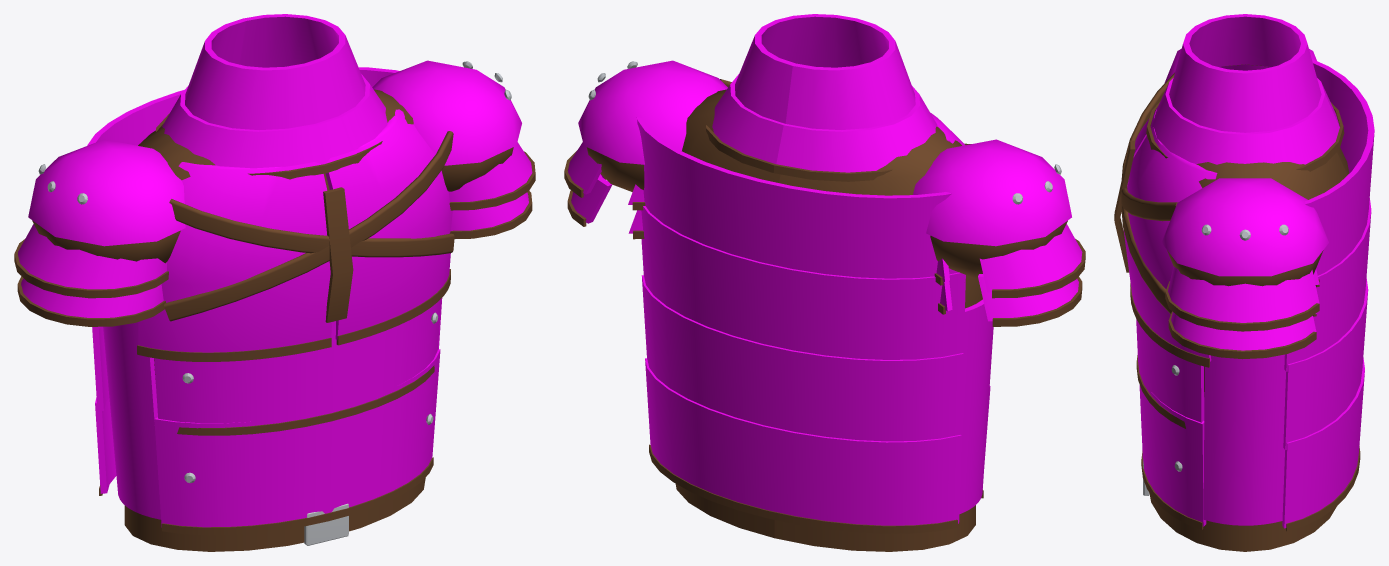
The model's file is objet_armure1_plastron.glb.
The picture shows the model from 3 angles, left to right: view 1: azimuth 30°, elevation 25°; view 2: azimuth 150°, elevation 25°; view 3: azimuth 270°, elevation 25°; orthographic projection. The views are drawn at different scales.
Parts seen in each view (by area): view 1: poitrine__plastron_teinte.010, ventre__plastron_teinte.010, poitrine__plastron_sac_cuir.002, ventre__plastron_sac_cuir.004, ventre__plastron_boucle.004; view 2: poitrine__plastron_teinte.010, ventre__plastron_teinte.010, poitrine__plastron_sac_cuir.002, ventre__plastron_sac_cuir.004; view 3: poitrine__plastron_teinte.010, ventre__plastron_teinte.010, poitrine__plastron_sac_cuir.002, ventre__plastron_sac_cuir.004.
Boxes of the visible parts, bbox=[...] form: poitrine__plastron_teinte.010: bbox=[18, 14, 532, 352]; ventre__plastron_teinte.010: bbox=[92, 298, 442, 527]; poitrine__plastron_sac_cuir.002: bbox=[14, 89, 535, 361]; ventre__plastron_sac_cuir.004: bbox=[99, 359, 434, 551]; ventre__plastron_boucle.004: bbox=[304, 503, 348, 545]; poitrine__plastron_teinte.010: bbox=[568, 14, 1082, 359]; ventre__plastron_teinte.010: bbox=[641, 275, 993, 525]; poitrine__plastron_sac_cuir.002: bbox=[564, 79, 1085, 326]; ventre__plastron_sac_cuir.004: bbox=[649, 444, 983, 551]; poitrine__plastron_teinte.010: bbox=[1123, 14, 1374, 371]; ventre__plastron_teinte.010: bbox=[1136, 278, 1368, 528]; poitrine__plastron_sac_cuir.002: bbox=[1114, 64, 1349, 367]; ventre__plastron_sac_cuir.004: bbox=[1136, 355, 1360, 551].
Bounding box in the file's own units: 0.4163 × 0.3672 × 0.1956.
